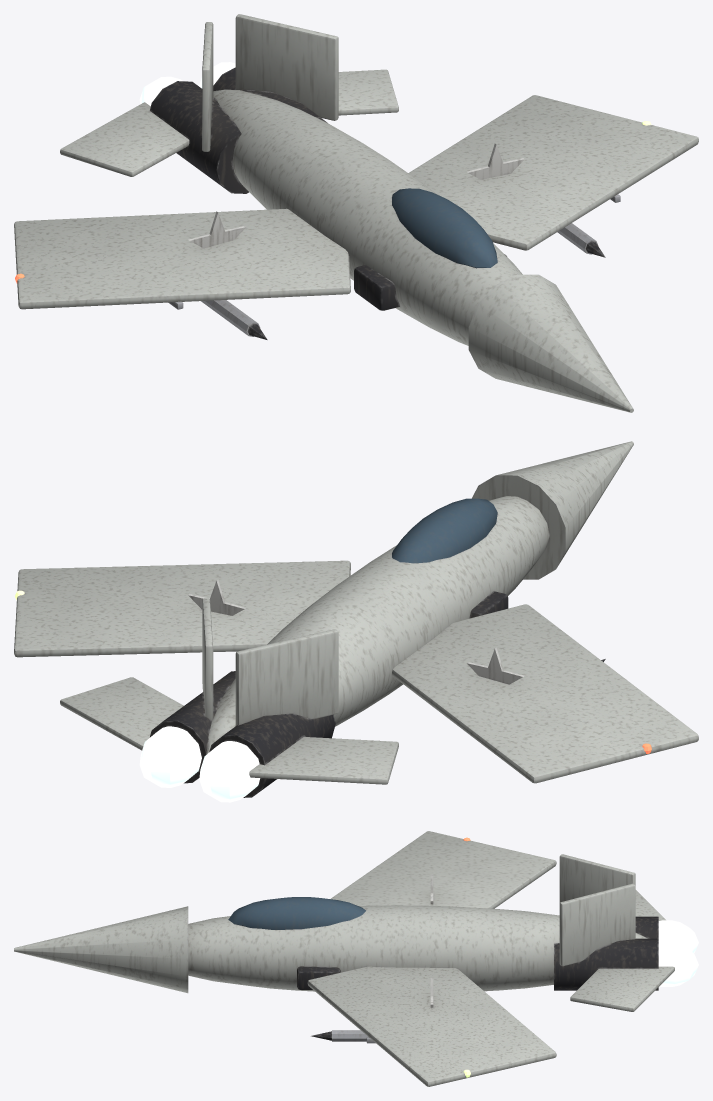
The model's file is west_jet.glb.
The picture shows the model from 3 angles, top to bottom: view 1: azimuth 30°, elevation 25°; view 2: azimuth 150°, elevation 25°; view 3: azimuth 270°, elevation 25°; orthographic projection. The views are drawn at different scales.
Visible parts, largest first — view 1: Hull; view 2: Hull; view 3: Hull.
Boxes of the visible parts, box(x1,y1,x2,y2) form: Hull: box(14, 14, 698, 412); Hull: box(14, 441, 698, 802); Hull: box(14, 831, 698, 1086).
Bounding box in the file's own units: 6.83 × 1.4 × 7.86.
Materials: 8 (8 with a texture image).
